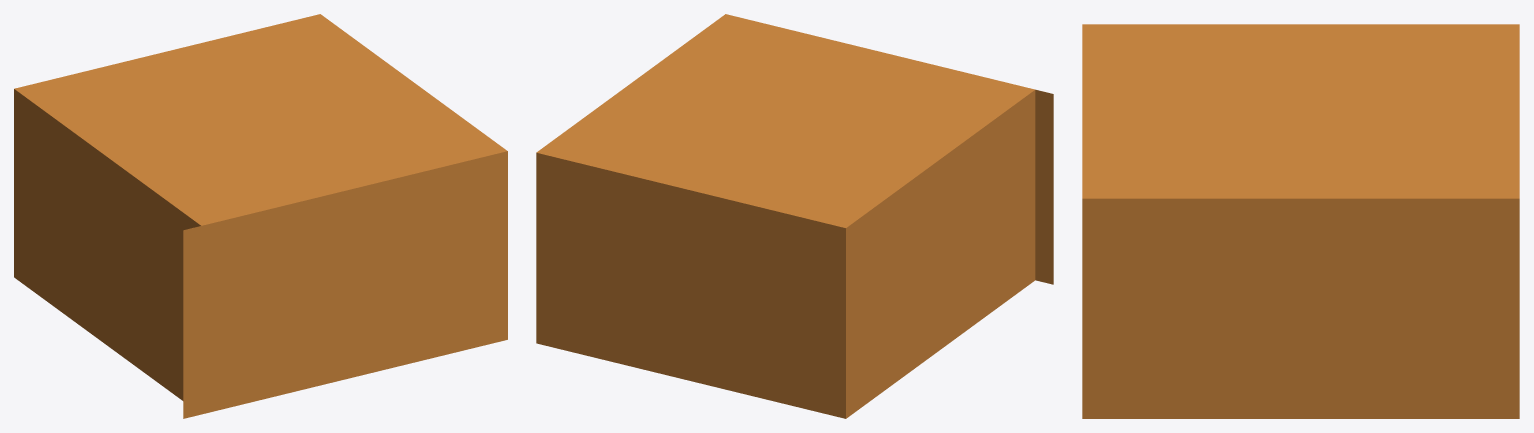
The picture shows the model from 3 angles, left to right: view 1: azimuth 30°, elevation 25°; view 2: azimuth 150°, elevation 25°; view 3: azimuth 270°, elevation 25°; orthographic projection. The views are drawn at different scales.
Parts seen in each view (by area): view 1: CORNER-B-12-p4; view 2: CORNER-B-12-p4; view 3: CORNER-B-12-p4.
Boxes of the visible parts, <box> form: CORNER-B-12-p4: <box>14,14,507,418</box>; CORNER-B-12-p4: <box>536,14,1053,418</box>; CORNER-B-12-p4: <box>1082,24,1519,418</box>.
Bounding box in the file's own units: 0.09 × 0.05 × 0.09.
